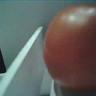tomato: (43, 6, 96, 94)
